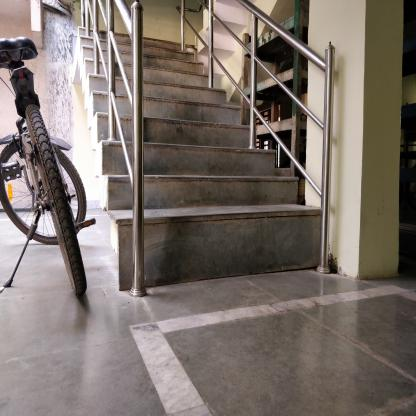stairs: (147, 56, 209, 297)
